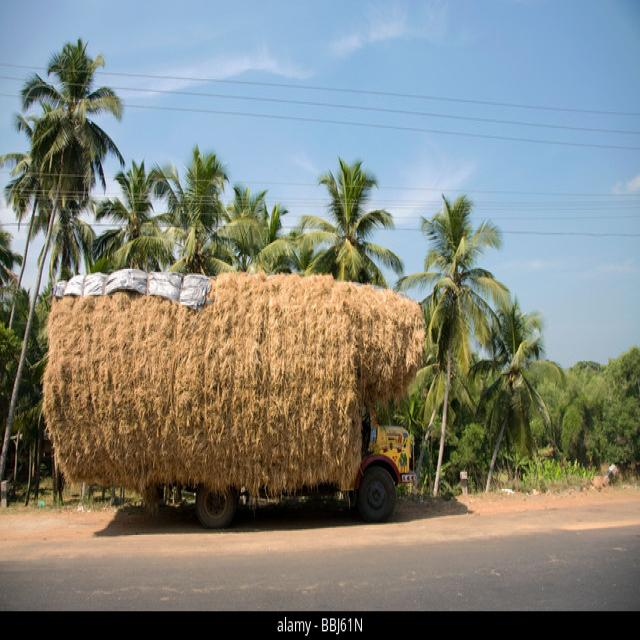goods: (351, 412, 415, 522), (196, 485, 238, 529)
truck: (42, 270, 425, 502)
